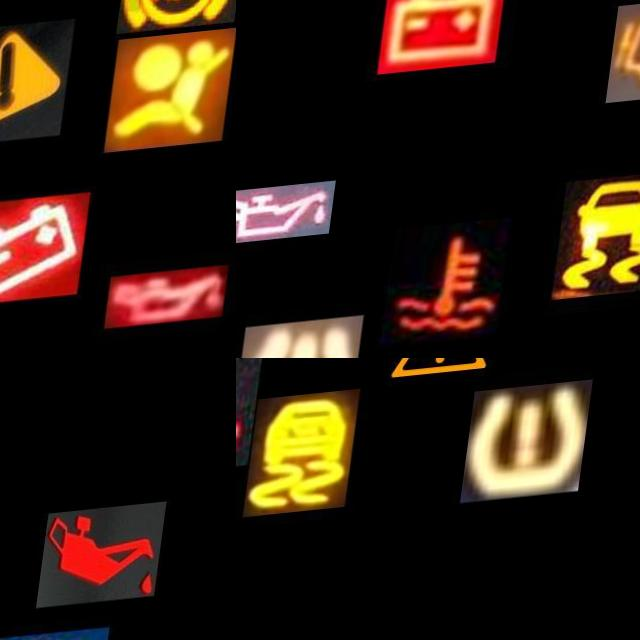Central Warning lamp: (0, 26, 81, 153), (388, 358, 518, 404)
Engine cooling system: (395, 225, 525, 352), (236, 359, 271, 479)
